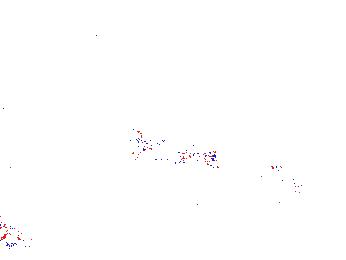X-ray fish: (106, 205, 170, 228)
redtail glassfish: (140, 138, 220, 165), (256, 167, 305, 200)
